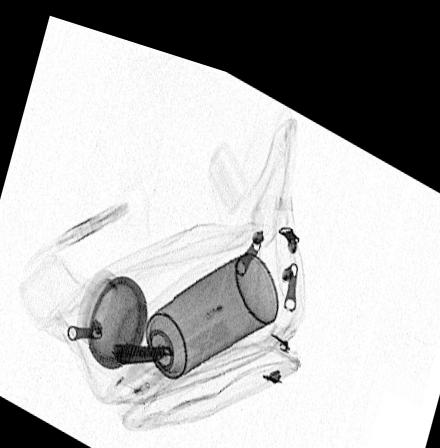Sprayer: (114, 235, 280, 391)
